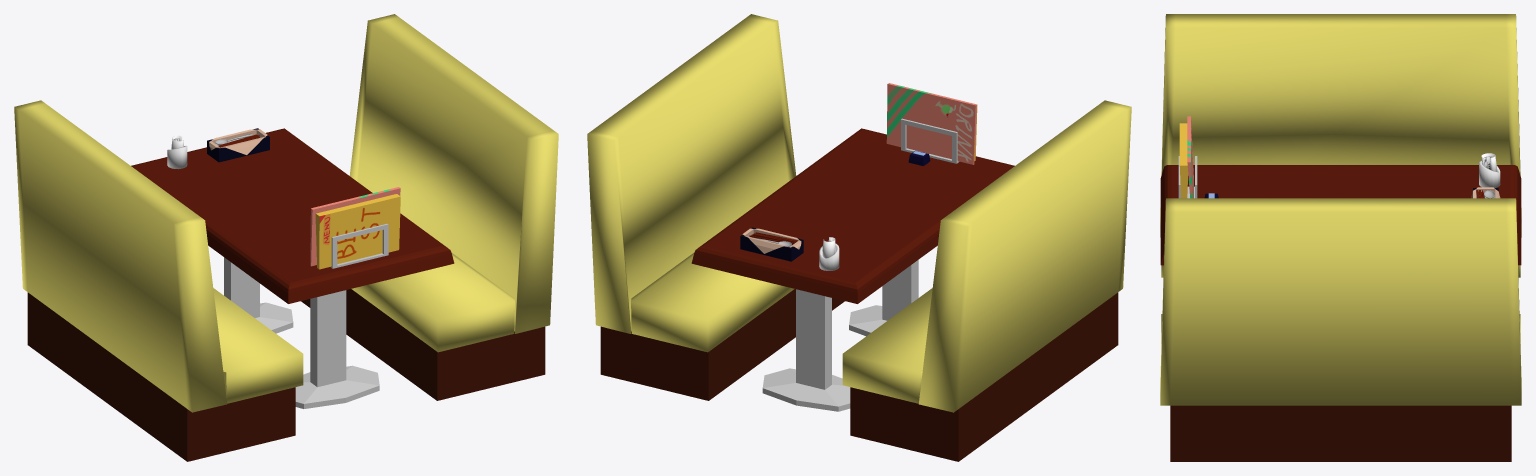
File: TableSet_4P.fbx
The picture shows the model from 3 angles, left to right: view 1: azimuth 30°, elevation 25°; view 2: azimuth 150°, elevation 25°; view 3: azimuth 270°, elevation 25°; orthographic projection. The views are drawn at different scales.
Visible parts, largest first — view 1: Sofa1, Sofa2, Table, Sofa_Leg2, Sofa_Leg1, Table_Leg, Menu, MenuStand, Sheet, Box; view 2: Sofa1, Sofa2, Table, Sofa_Leg2, Sofa_Leg1, Table_Leg, Menu, MenuStand, Box, Sheet; view 3: Sofa1, Sofa2, Sofa_Leg1, Table, Menu, Receipt.
Part boxes in pixels (<box>): Sofa1: <box>349,14,558,352</box>; Sofa2: <box>14,100,303,412</box>; Table: <box>131,128,454,303</box>; Sofa_Leg2: <box>27,292,295,461</box>; Sofa_Leg1: <box>301,289,545,400</box>; Table_Leg: <box>224,257,379,408</box>; Menu: <box>310,187,400,269</box>; MenuStand: <box>330,223,388,268</box>; Sheet: <box>209,129,267,154</box>; Box: <box>207,128,269,162</box>; Sofa1: <box>587,14,796,352</box>; Sofa2: <box>842,100,1131,412</box>; Table: <box>691,128,1014,303</box>; Sofa_Leg2: <box>850,292,1118,461</box>; Sofa_Leg1: <box>600,289,844,400</box>; Table_Leg: <box>762,260,918,411</box>; Menu: <box>886,83,977,164</box>; MenuStand: <box>901,118,959,163</box>; Box: <box>740,227,803,261</box>; Sheet: <box>742,228,801,253</box>; Sofa1: <box>1160,198,1521,405</box>; Sofa2: <box>1160,14,1521,277</box>; Sofa_Leg1: <box>1170,405,1511,461</box>; Table: <box>1160,165,1521,265</box>; Menu: <box>1179,116,1193,198</box>; Receipt: <box>1479,160,1500,187</box>.
Size of the model in its own units: 205 by 123 by 158.
